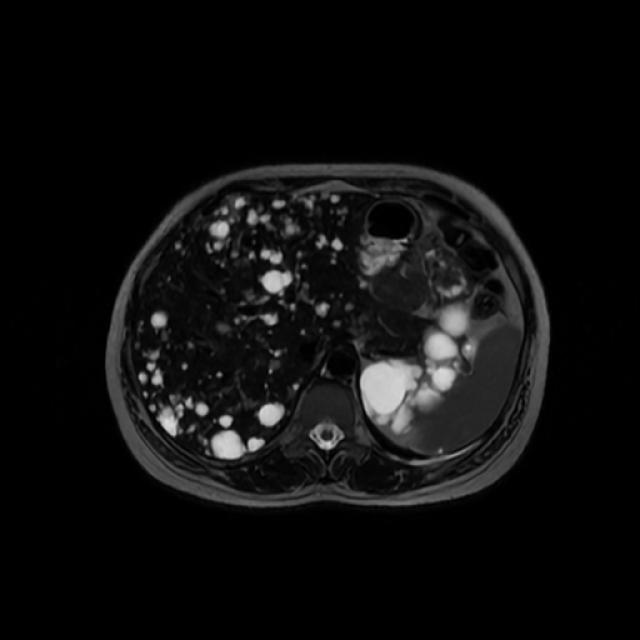sol: (365, 307, 469, 432)
